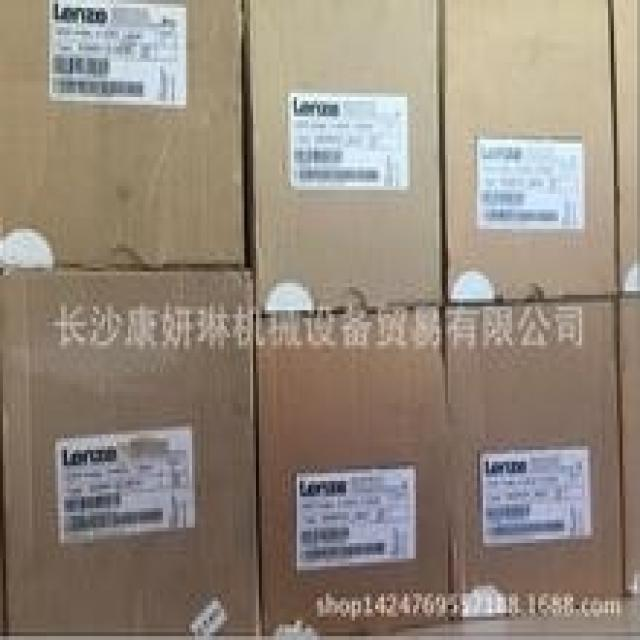box: (4, 269, 259, 636), (1, 3, 246, 269), (259, 304, 453, 636), (249, 1, 442, 310), (446, 294, 625, 619), (445, 0, 618, 301), (613, 0, 637, 295), (621, 295, 637, 596)
